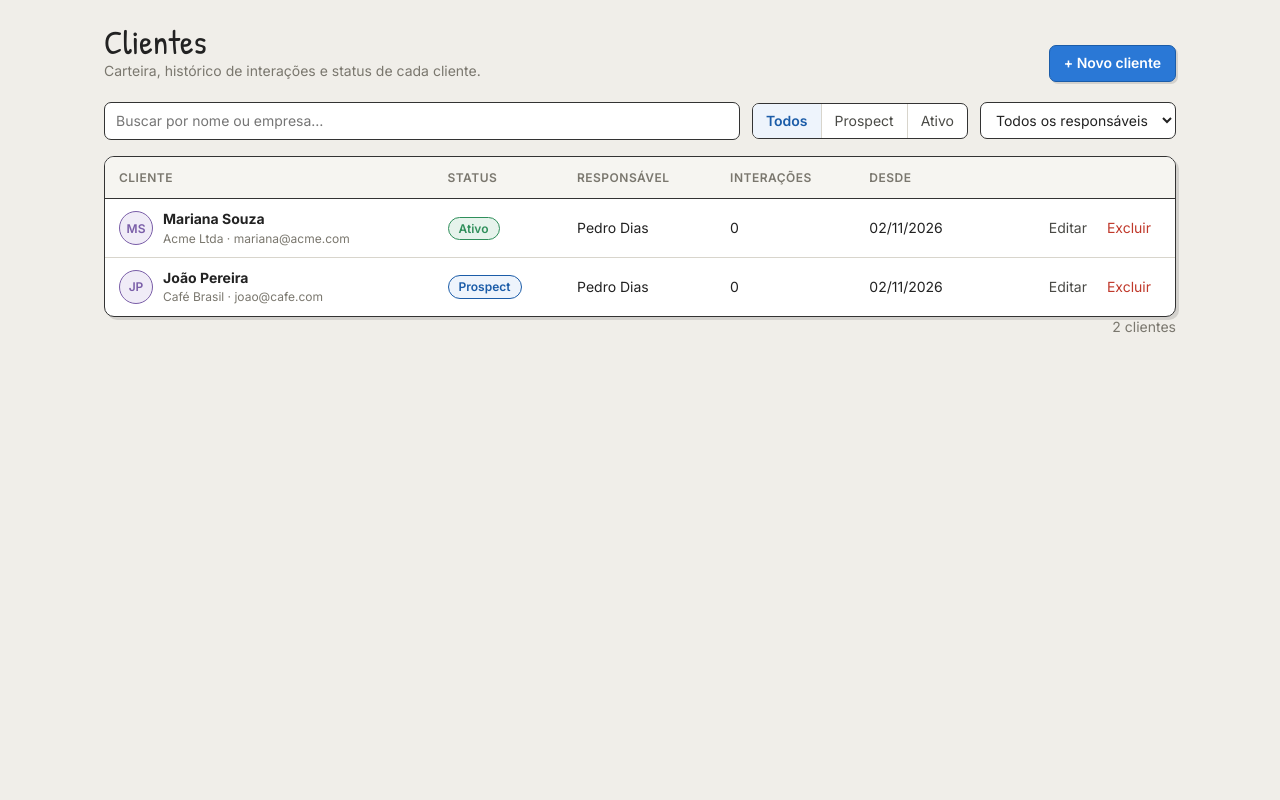
Scenario: ClientesApp (microfrontend) › cadastra um cliente e mostra os erros de validação antes de enviar
Expected: the text "Mariana Souza" is shown, [163,210,265,227]
Click the button "+ Novo cliente" at (1112, 64), box [1049,45,1176,82]
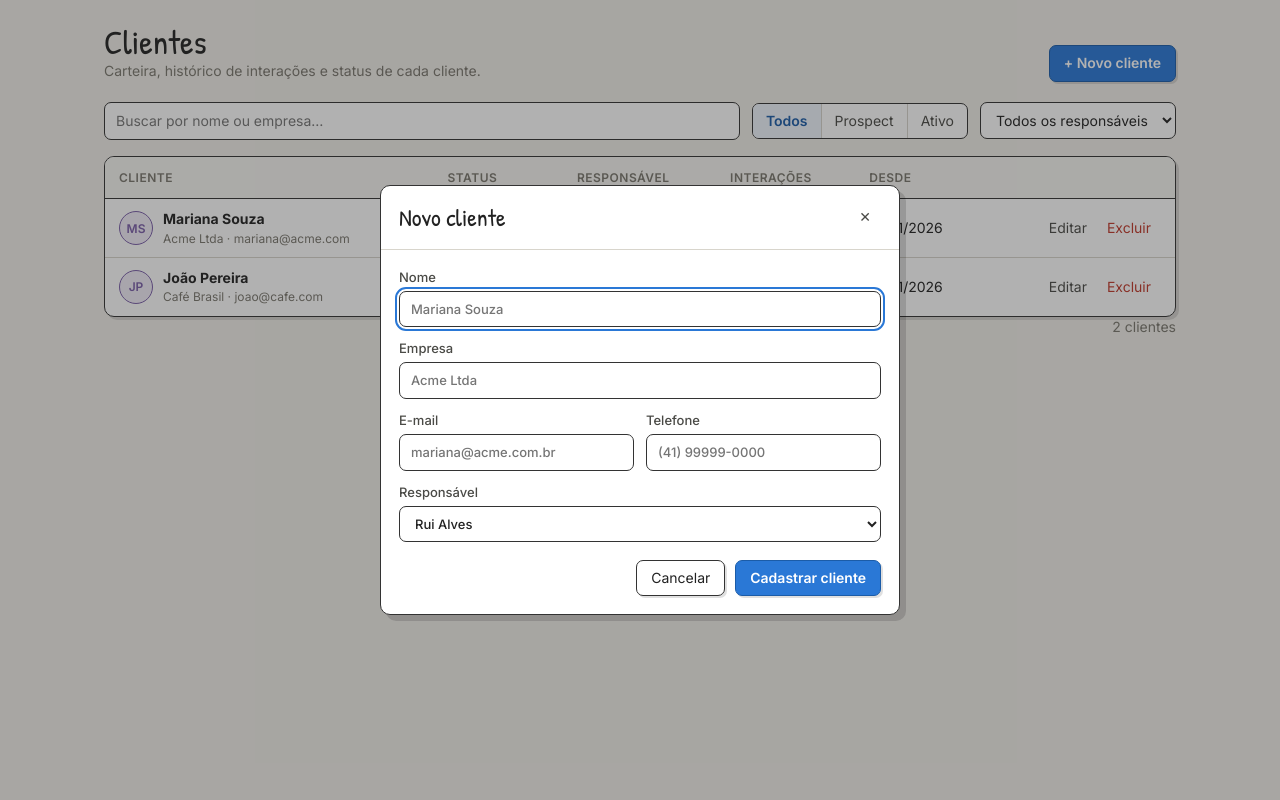
Click the button "Cadastrar cliente" at (808, 578), box [735,560,881,596]
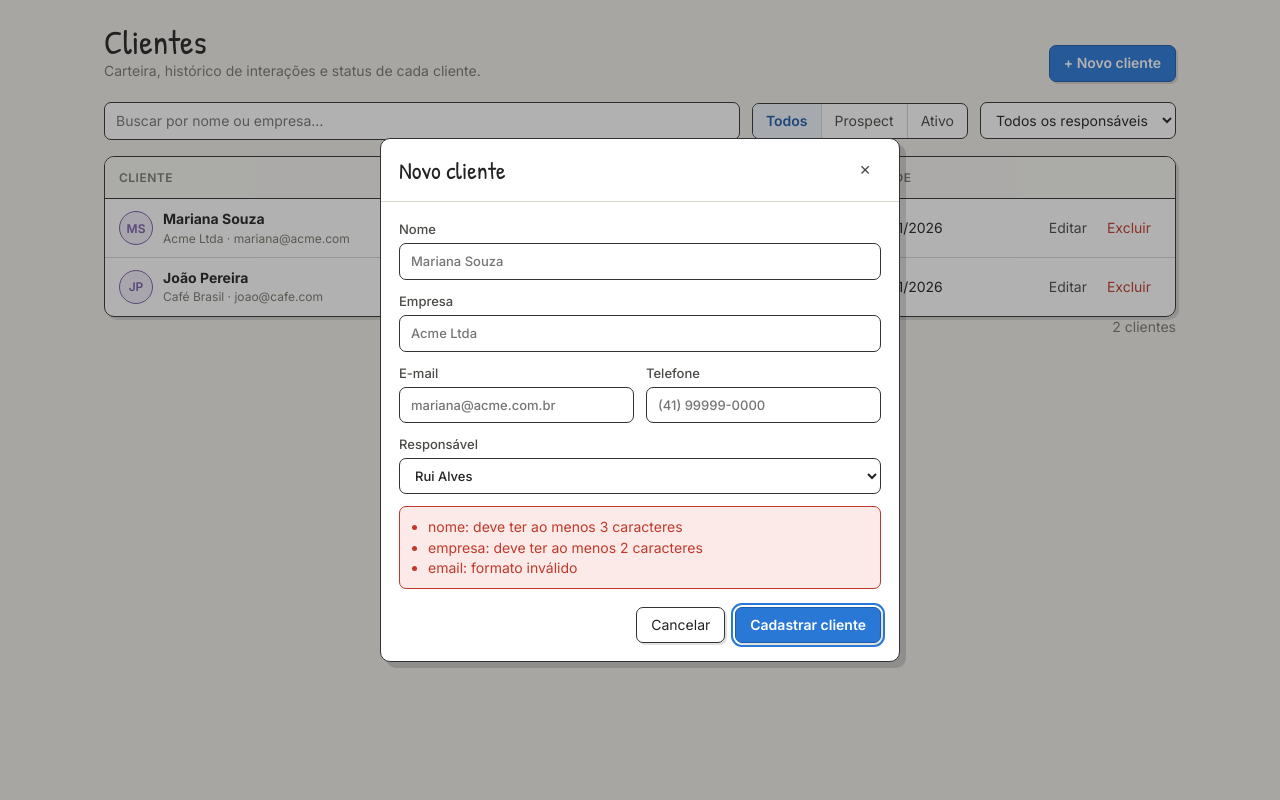
Result: the message shows "nome: deve ter ao menos 3 caracteres" at [428,518,683,535]
Type "Bruno Alves" into the field labelled "Nome" at (640, 262), box [399,243,881,280]
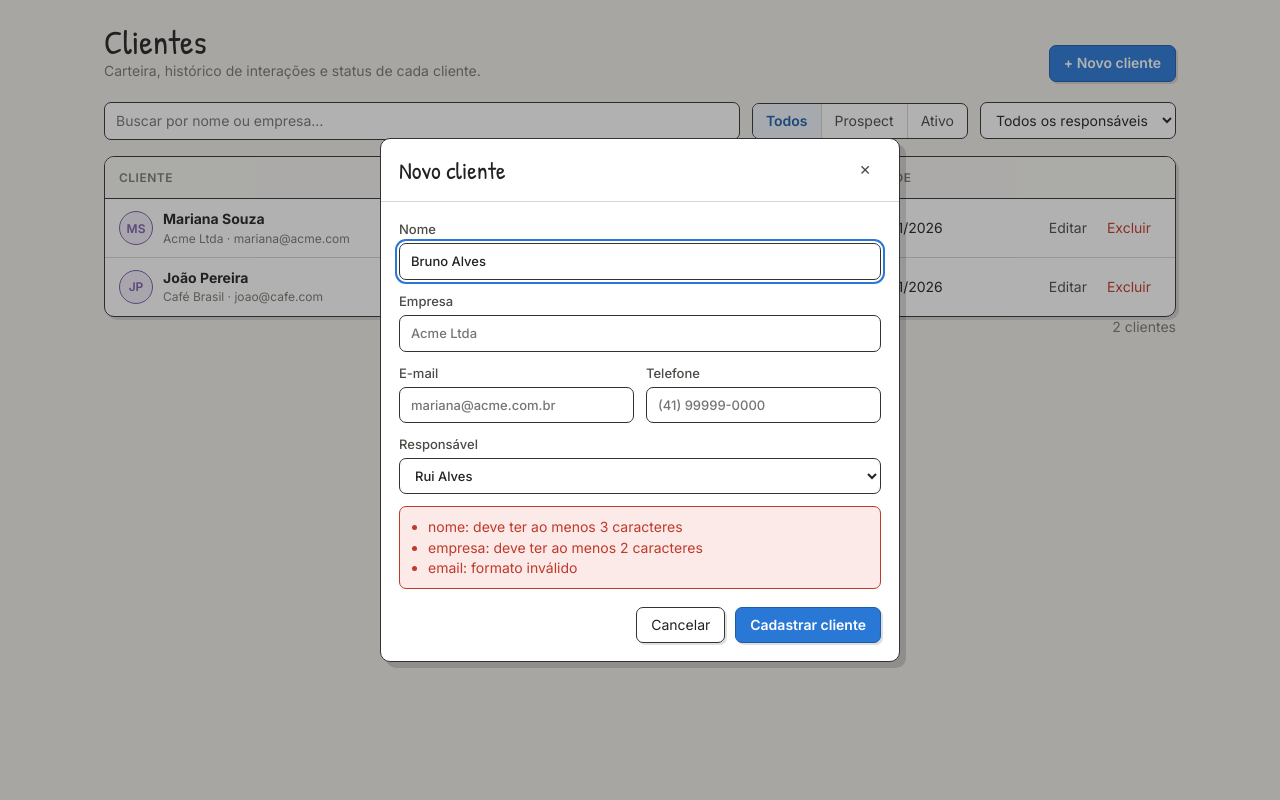
Type "TechSul" into the field labelled "Empresa" at (640, 333), box [399,315,881,352]
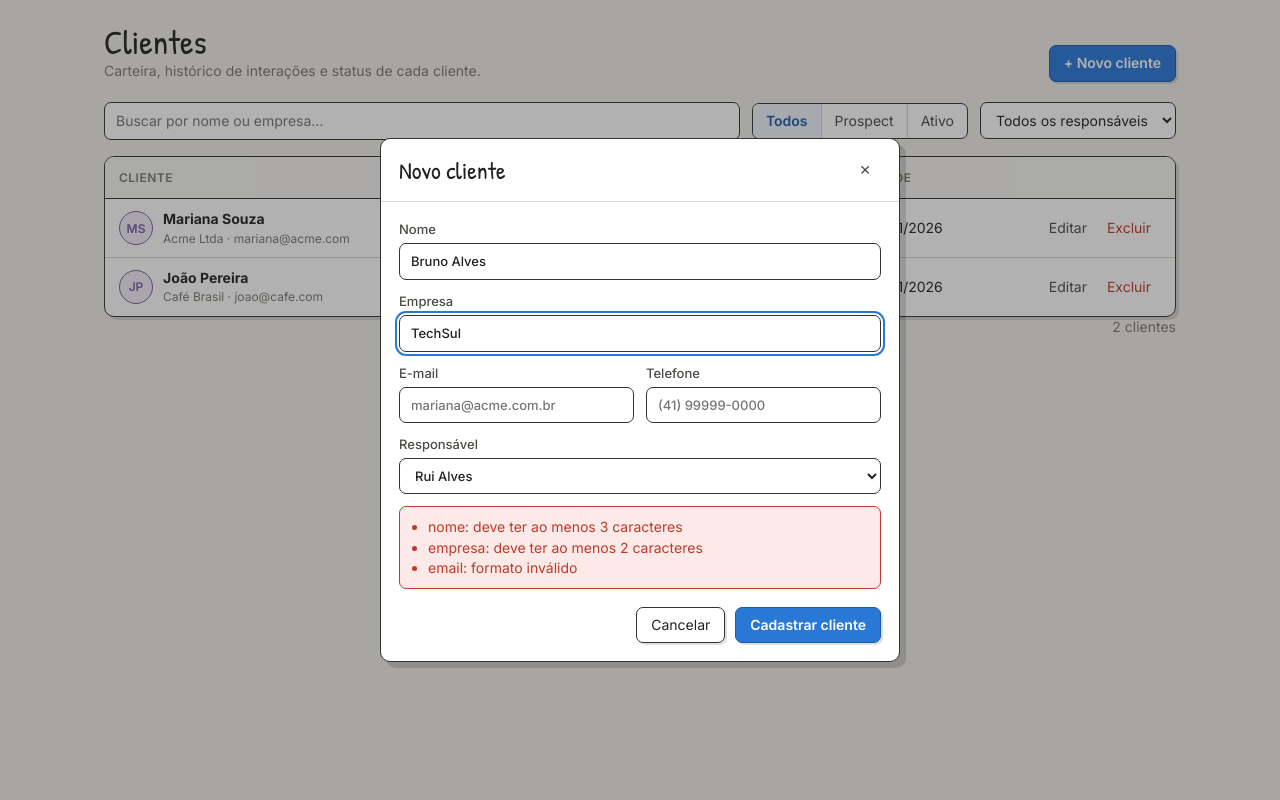
Type "bruno@techsul.com" into the field labelled "E-mail" at (516, 405), box [399,387,634,423]
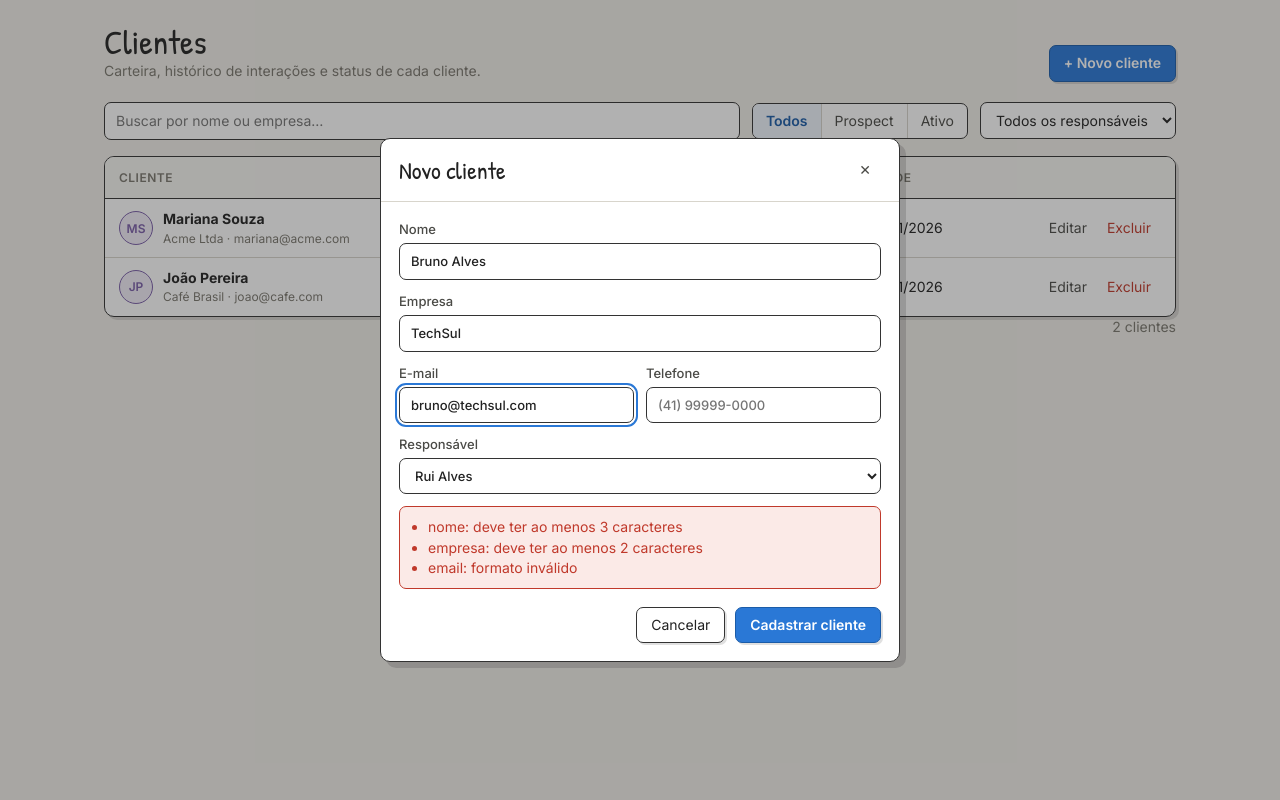
Click the button "Cadastrar cliente" at (808, 625), box [735,607,881,643]
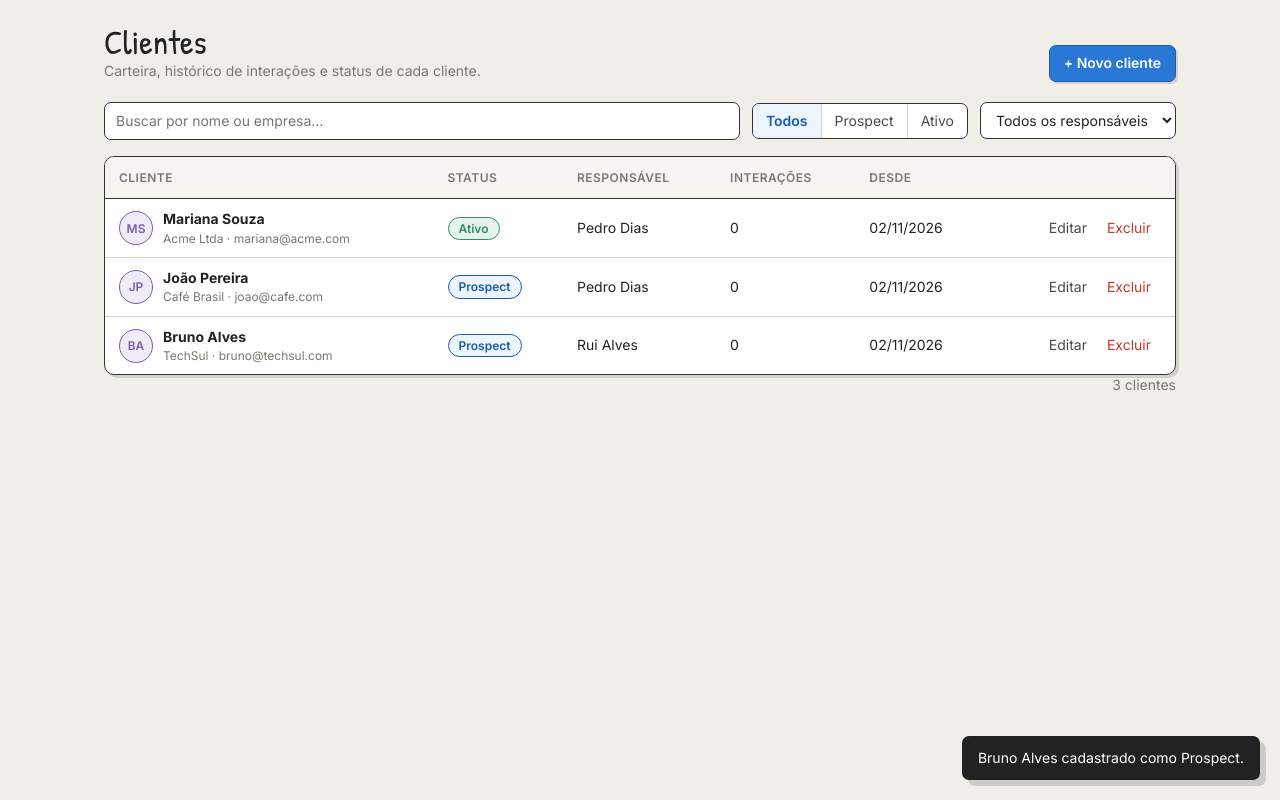
Result: the text "Bruno Alves" is shown at [163,328,246,345]
Result: the message reads "Bruno Alves cadastrado como Prospect." at [978,749,1244,766]
